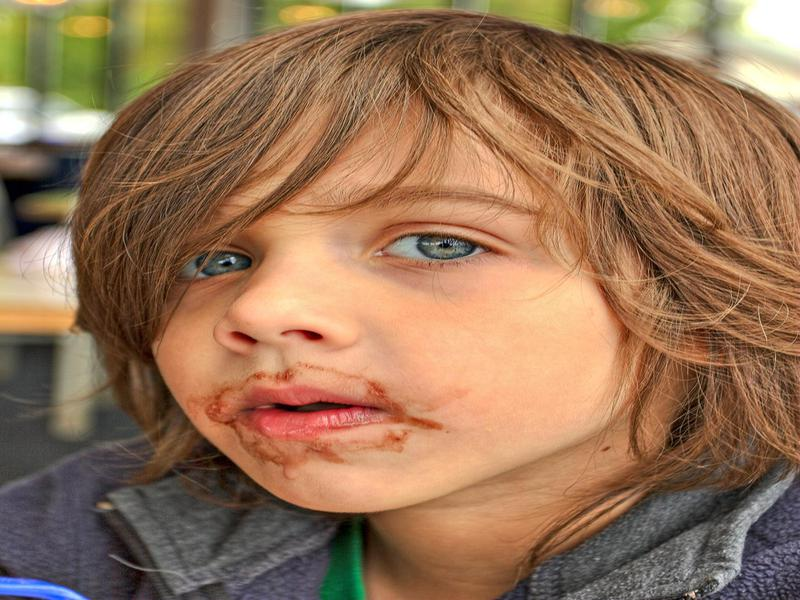person: (16, 11, 798, 600)
